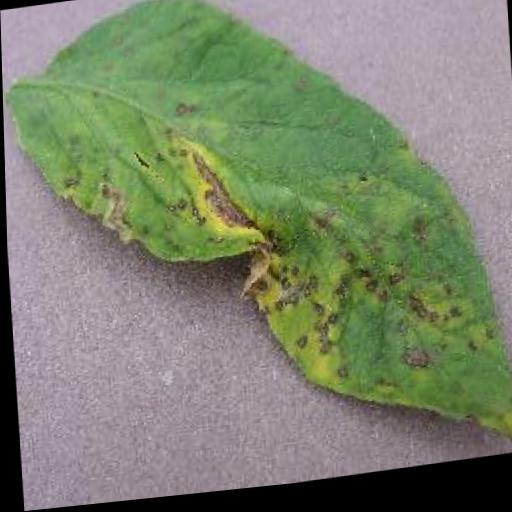Septoria: (2, 0, 512, 503)
